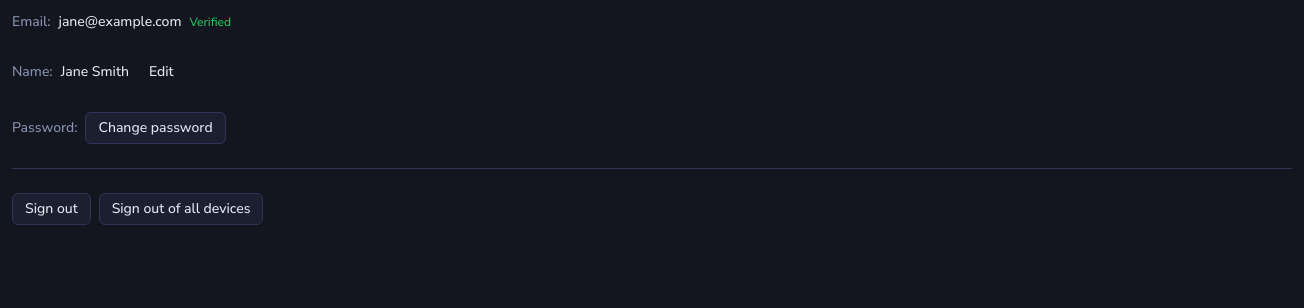
it: AccountSection › name editing › restores original name on cancel
Click the button "Edit" at (161, 72), box [137,56,186,88]
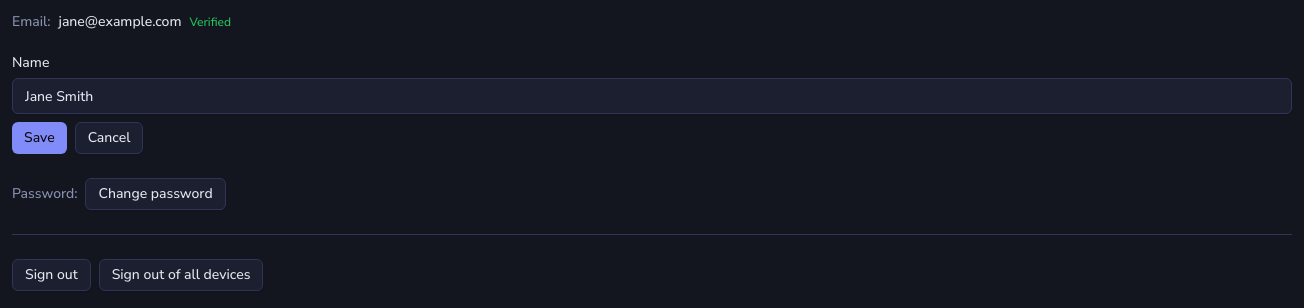
Replace the text in the field labelled "Name" with "Changed Name" at (652, 96), box [12,78,1292,114]
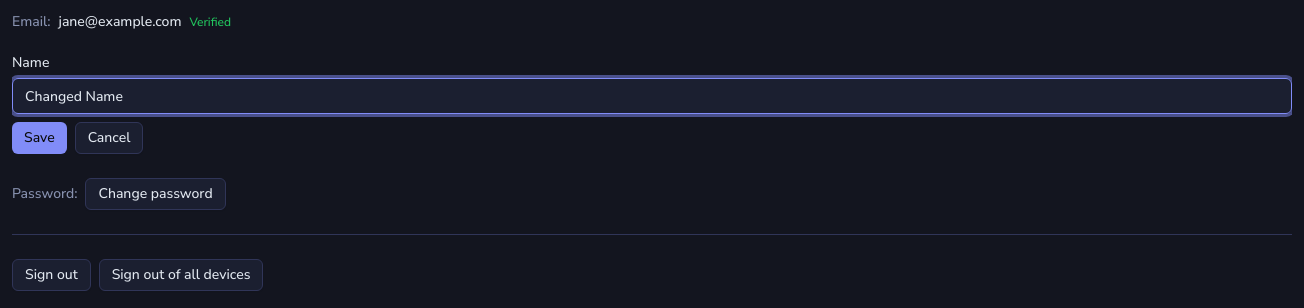
Click the button "Cancel" at (109, 138), box [75,122,143,154]
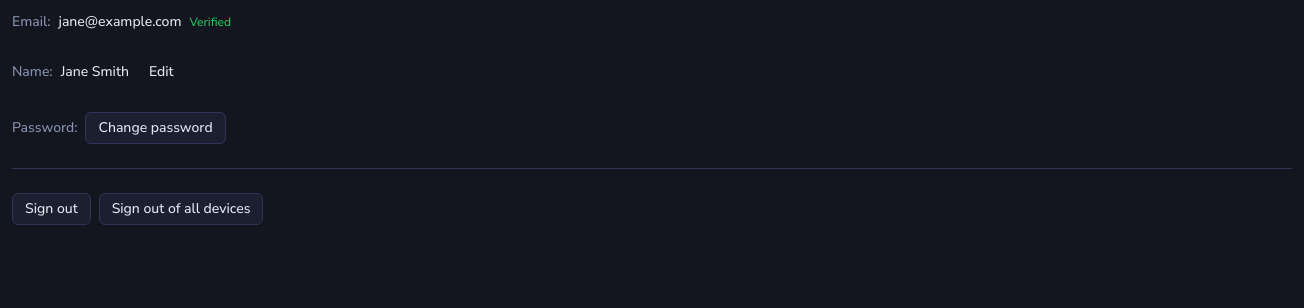
Result: the text "Jane Smith" is shown at [61,62,129,82]
